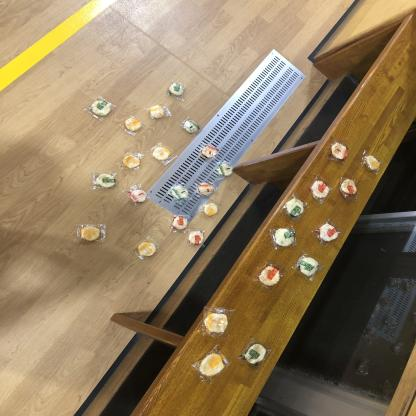green_setoshio: (237, 337, 272, 369), (292, 252, 326, 282), (84, 94, 118, 122), (277, 195, 311, 222), (269, 224, 300, 251), (90, 170, 119, 191), (178, 114, 202, 136), (164, 80, 188, 101), (167, 183, 193, 202), (216, 160, 235, 179)
red_setoshio: (253, 261, 288, 291), (311, 218, 344, 248), (306, 175, 335, 204), (123, 183, 151, 208), (338, 177, 362, 201), (326, 140, 349, 163), (168, 212, 192, 233), (186, 229, 208, 249), (195, 180, 219, 198), (198, 143, 220, 160)
yellow_setoshio: (186, 346, 233, 381), (200, 306, 234, 337), (131, 235, 161, 262), (147, 142, 178, 166), (117, 113, 149, 136), (76, 223, 107, 244), (118, 149, 144, 173), (144, 101, 172, 121), (361, 152, 382, 174), (199, 198, 220, 220)
